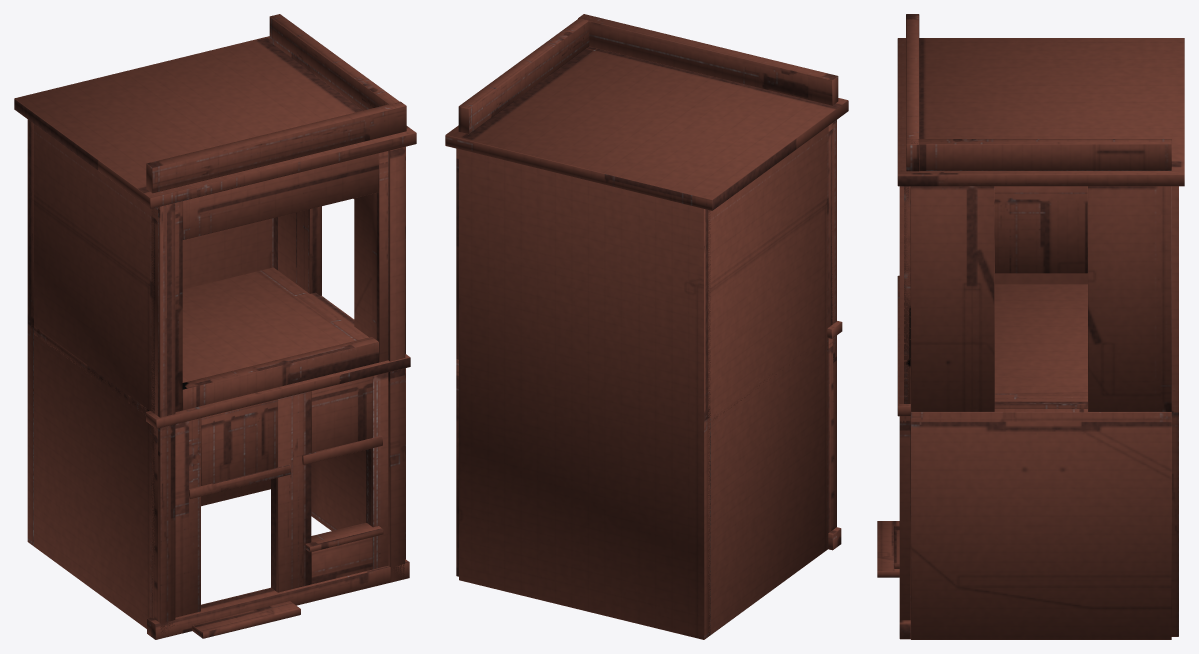
File: Albatros_Oficina.fbx
3 views of the same model, side by side, from view 1: azimuth 30°, elevation 25°; view 2: azimuth 150°, elevation 25°; view 3: azimuth 270°, elevation 25° (orthographic). The views are drawn at different scales.
Visible parts, largest first — view 1: Albatros_Oficina; view 2: Albatros_Oficina; view 3: Albatros_Oficina.
Boxes of the visible parts, bbox=[...] form: Albatros_Oficina: bbox=[14, 14, 416, 639]; Albatros_Oficina: bbox=[445, 14, 848, 639]; Albatros_Oficina: bbox=[877, 14, 1184, 639].
Size of the model in its own units: 17.4 by 29.3 by 16.5.
